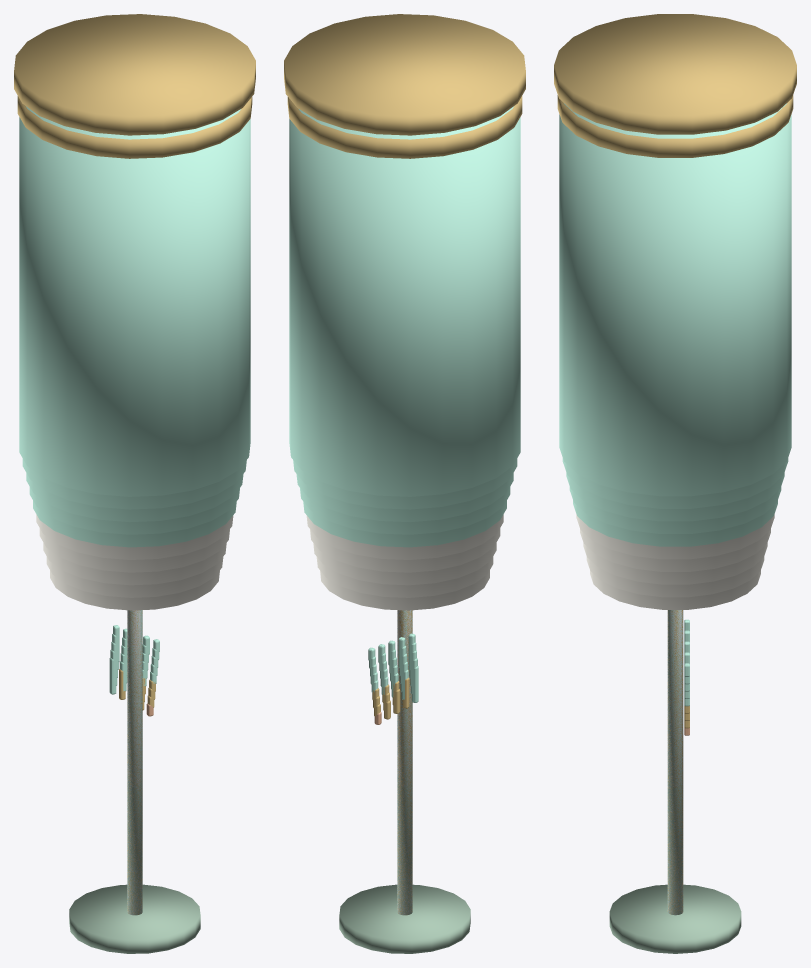
The model's file is Gear05.fbx.
3 renders of one model, left to right at view 1: azimuth 30°, elevation 25°; view 2: azimuth 150°, elevation 25°; view 3: azimuth 270°, elevation 25°, orthographic.
Visible parts, largest first — view 1: Gear05_V10_Glow, Gear05_V10_Gold, Gear05_V1_Sage, Gear05_V9_Gold, Gear05_V9_Glow, Gear05_V8_Glow, Gear05_V6_Glow, Gear05_V7_Glow, Gear05_V5_Linen, Gear05_V4_Linen, Gear05_V3_Linen, Gear05_V2_Linen (+5 smaller); view 2: Gear05_V10_Glow, Gear05_V10_Gold, Gear05_V1_Sage, Gear05_V9_Gold, Gear05_V9_Glow, Gear05_V6_Glow, Gear05_V8_Glow, Gear05_V7_Glow, Gear05_V5_Linen, Gear05_V4_Linen, Gear05_V3_Linen, Gear05_V2_Linen (+4 smaller); view 3: Gear05_V10_Glow, Gear05_V10_Gold, Gear05_V1_Sage, Gear05_V9_Gold, Gear05_V9_Glow, Gear05_V8_Glow, Gear05_V7_Glow, Gear05_V6_Glow, Gear05_V5_Linen, Gear05_V4_Linen, Gear05_V3_Linen, Gear05_V2_Linen (+4 smaller).
Boxes of the visible parts, x1,y1,x2,y2 form: Gear05_V10_Glow: (19, 106, 250, 661); Gear05_V10_Gold: (14, 14, 255, 914); Gear05_V1_Sage: (69, 610, 200, 953); Gear05_V9_Gold: (17, 96, 252, 910); Gear05_V9_Glow: (22, 459, 246, 669); Gear05_V8_Glow: (26, 473, 243, 677); Gear05_V6_Glow: (33, 501, 236, 694); Gear05_V7_Glow: (29, 487, 240, 685); Gear05_V5_Linen: (36, 514, 233, 559); Gear05_V4_Linen: (39, 528, 229, 572); Gear05_V3_Linen: (43, 543, 226, 585); Gear05_V2_Linen: (46, 556, 223, 597); Gear05_V10_Glow: (289, 106, 520, 670); Gear05_V10_Gold: (284, 14, 525, 914); Gear05_V1_Sage: (339, 610, 470, 953); Gear05_V9_Gold: (287, 96, 522, 902); Gear05_V9_Glow: (293, 459, 517, 678); Gear05_V6_Glow: (303, 501, 506, 702); Gear05_V8_Glow: (296, 473, 513, 686); Gear05_V7_Glow: (299, 487, 510, 694); Gear05_V5_Linen: (306, 514, 503, 559); Gear05_V4_Linen: (310, 528, 500, 572); Gear05_V3_Linen: (313, 543, 496, 585); Gear05_V2_Linen: (316, 556, 493, 597); Gear05_V10_Glow: (559, 103, 791, 676); Gear05_V10_Gold: (554, 14, 796, 914); Gear05_V1_Sage: (609, 610, 741, 953); Gear05_V9_Gold: (557, 95, 793, 906); Gear05_V9_Glow: (562, 458, 788, 684); Gear05_V8_Glow: (566, 473, 784, 691); Gear05_V7_Glow: (569, 486, 781, 698); Gear05_V6_Glow: (573, 500, 777, 706); Gear05_V5_Linen: (576, 514, 774, 559); Gear05_V4_Linen: (580, 529, 770, 571); Gear05_V3_Linen: (583, 543, 767, 584); Gear05_V2_Linen: (586, 557, 764, 597).
Size of the model in its own units: 61.92 by 245 by 62.56.
